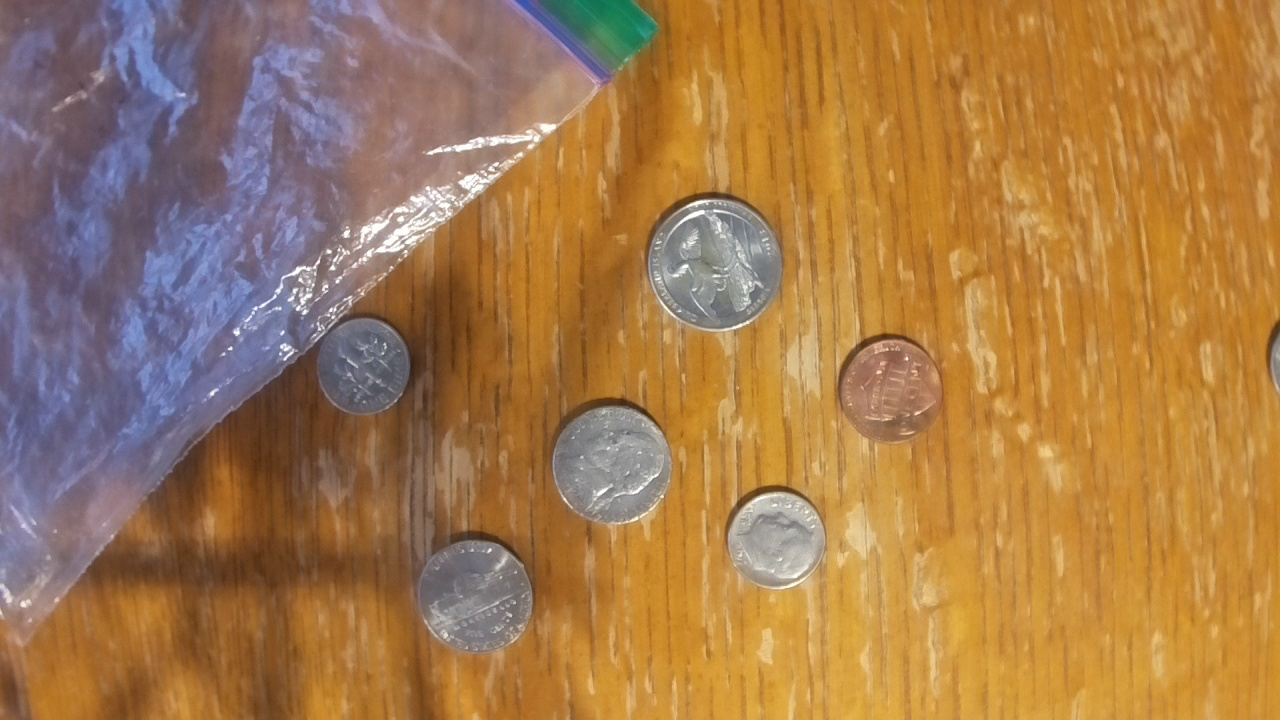dime: (725, 487, 827, 591), (316, 316, 412, 416)
nickel: (543, 399, 675, 529), (410, 530, 536, 662)
penny: (837, 334, 943, 446)
quarter: (646, 192, 782, 334)
